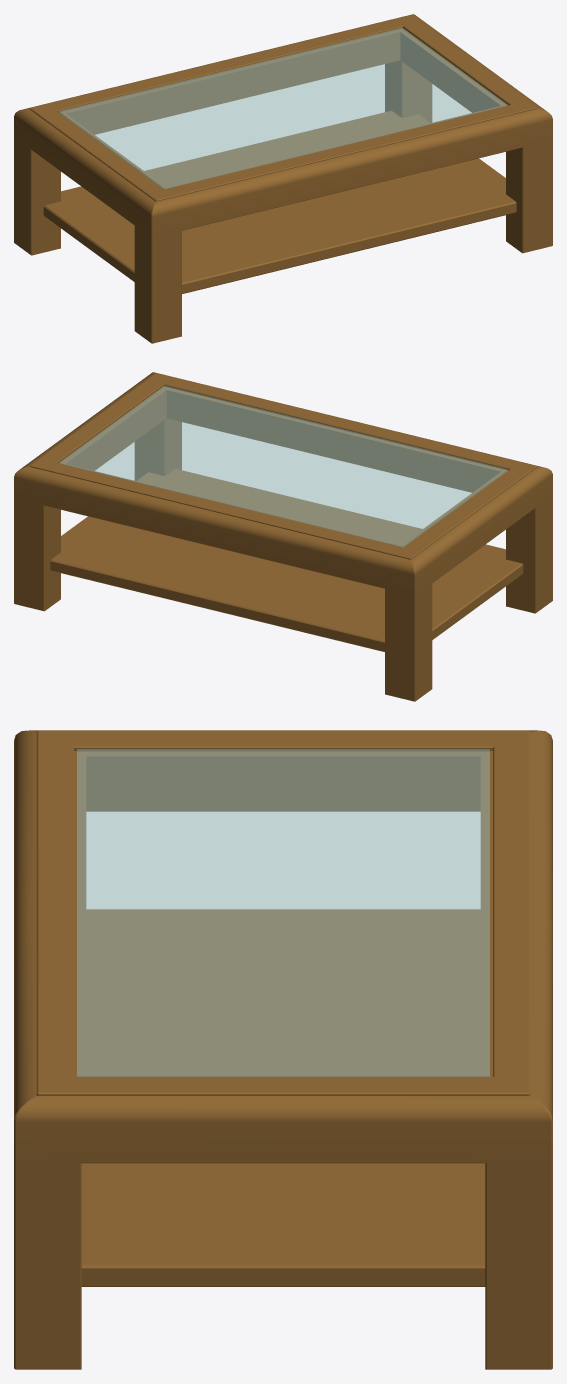
The model's file is Coffee_Table.fbx.
The picture shows the model from 3 angles, top to bottom: view 1: azimuth 30°, elevation 25°; view 2: azimuth 150°, elevation 25°; view 3: azimuth 270°, elevation 25°; orthographic projection. The views are drawn at different scales.
Parts seen in each view (by area): view 1: Table, Glass1, Bottom_Shelf; view 2: Table, Glass1, Bottom_Shelf; view 3: Table, Glass1, Bottom_Shelf.
Boxes of the visible parts, <box> form: Table: <box>14,14,552,343</box>; Glass1: <box>58,27,507,189</box>; Bottom_Shelf: <box>43,110,516,293</box>; Table: <box>14,372,552,701</box>; Glass1: <box>59,385,508,547</box>; Bottom_Shelf: <box>50,468,523,651</box>; Table: <box>14,730,552,1369</box>; Glass1: <box>77,749,489,1076</box>; Bottom_Shelf: <box>81,909,485,1286</box>.
Bounding box in the file's own units: 257 × 83.79 × 153.
